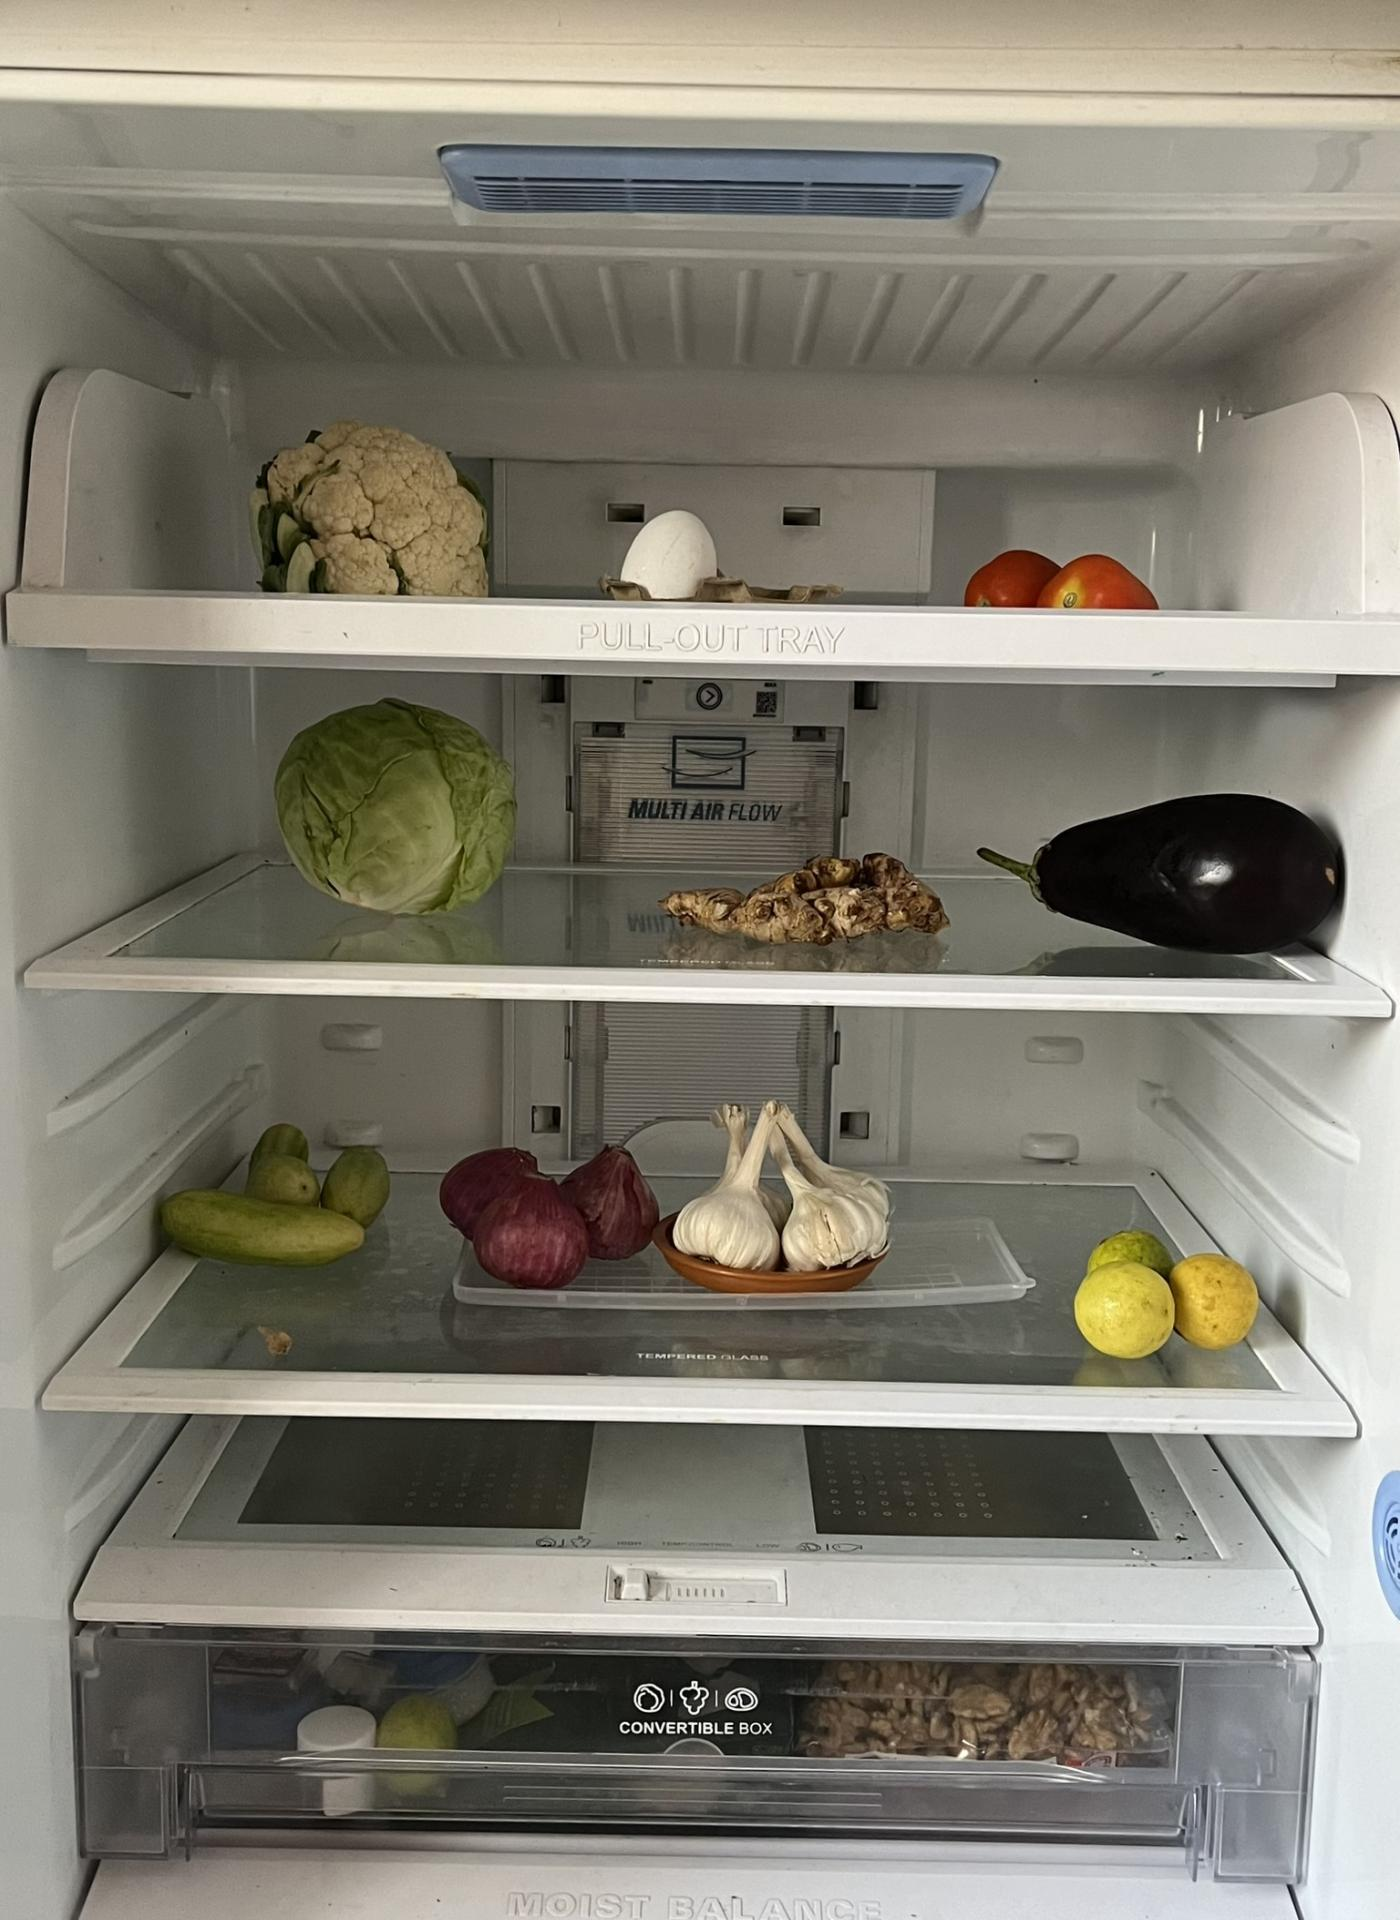brinjal: (987, 792, 1345, 950)
cabbage: (279, 702, 522, 920)
cauliflower: (249, 419, 496, 601)
cucumber: (157, 1112, 392, 1258)
garlic: (672, 1091, 899, 1275)
ginger: (660, 845, 948, 945)
lemon: (1069, 1219, 1266, 1368), (617, 504, 716, 596)
onion: (447, 1142, 665, 1283)
tomato: (968, 541, 1155, 610)
